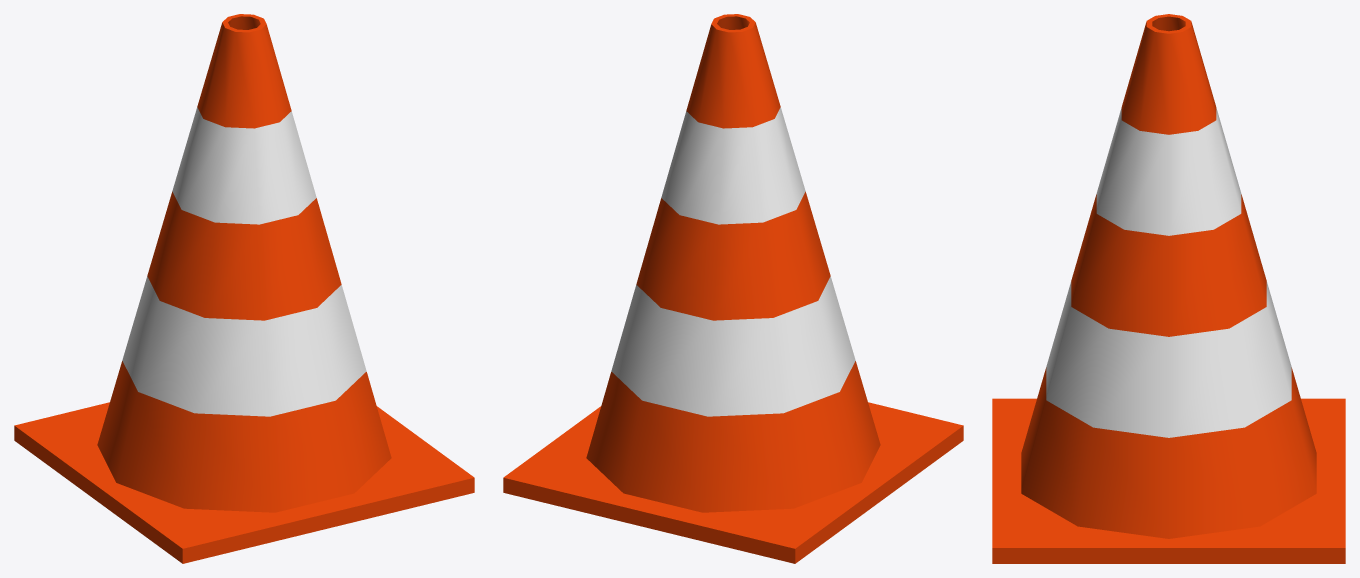
Rendered from TrafficCone.obj.
3 renders of one model, left to right at view 1: azimuth 30°, elevation 25°; view 2: azimuth 150°, elevation 25°; view 3: azimuth 270°, elevation 25°, orthographic. The views are drawn at different scales.
Visible parts, largest first — view 1: cone1_default2, cone1_default3; view 2: cone1_default2, cone1_default3; view 3: cone1_default2, cone1_default3.
Part boxes in pixels (x1=…): cone1_default2: x1=14, y1=14, x2=474, y2=563; cone1_default3: x1=122, y1=107, x2=366, y2=416; cone1_default2: x1=503, y1=14, x2=963, y2=563; cone1_default3: x1=611, y1=107, x2=855, y2=416; cone1_default2: x1=992, y1=14, x2=1345, y2=563; cone1_default3: x1=1046, y1=108, x2=1291, y2=437.
Bounding box in the file's own units: 1.57 × 2.27 × 1.57.
